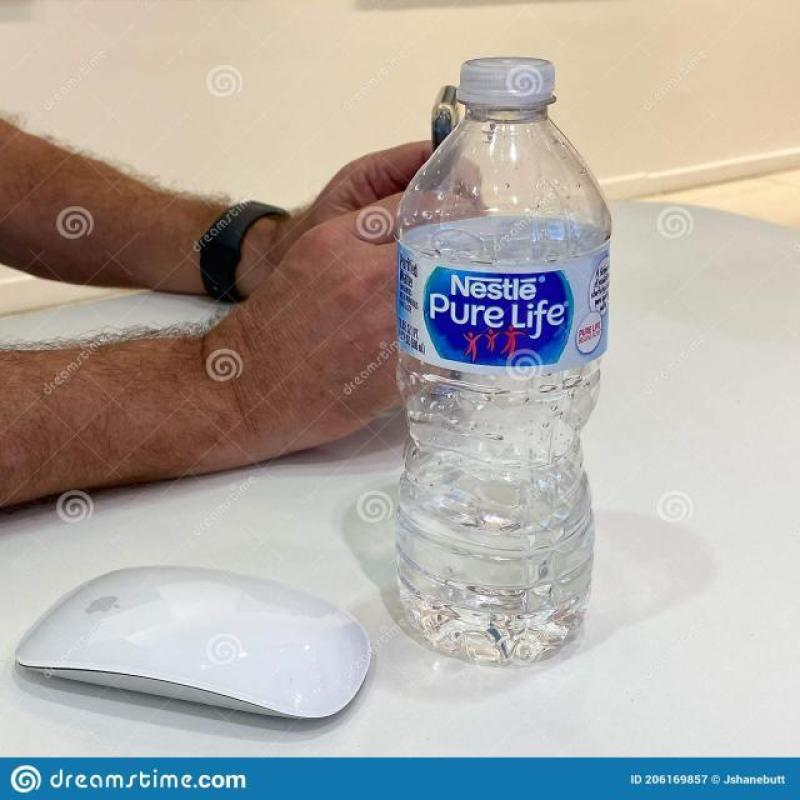botella: (395, 56, 613, 669)
